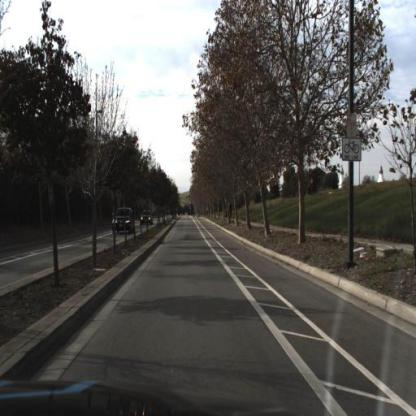car: (111, 207, 137, 236), (113, 207, 134, 236), (139, 210, 153, 231), (141, 210, 153, 226)
